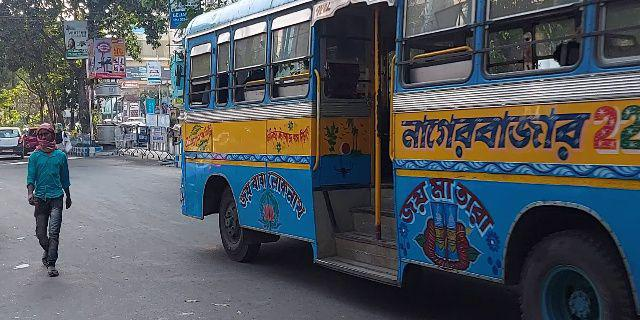Bus: (180, 2, 640, 316)
Car: (1, 121, 25, 158)
